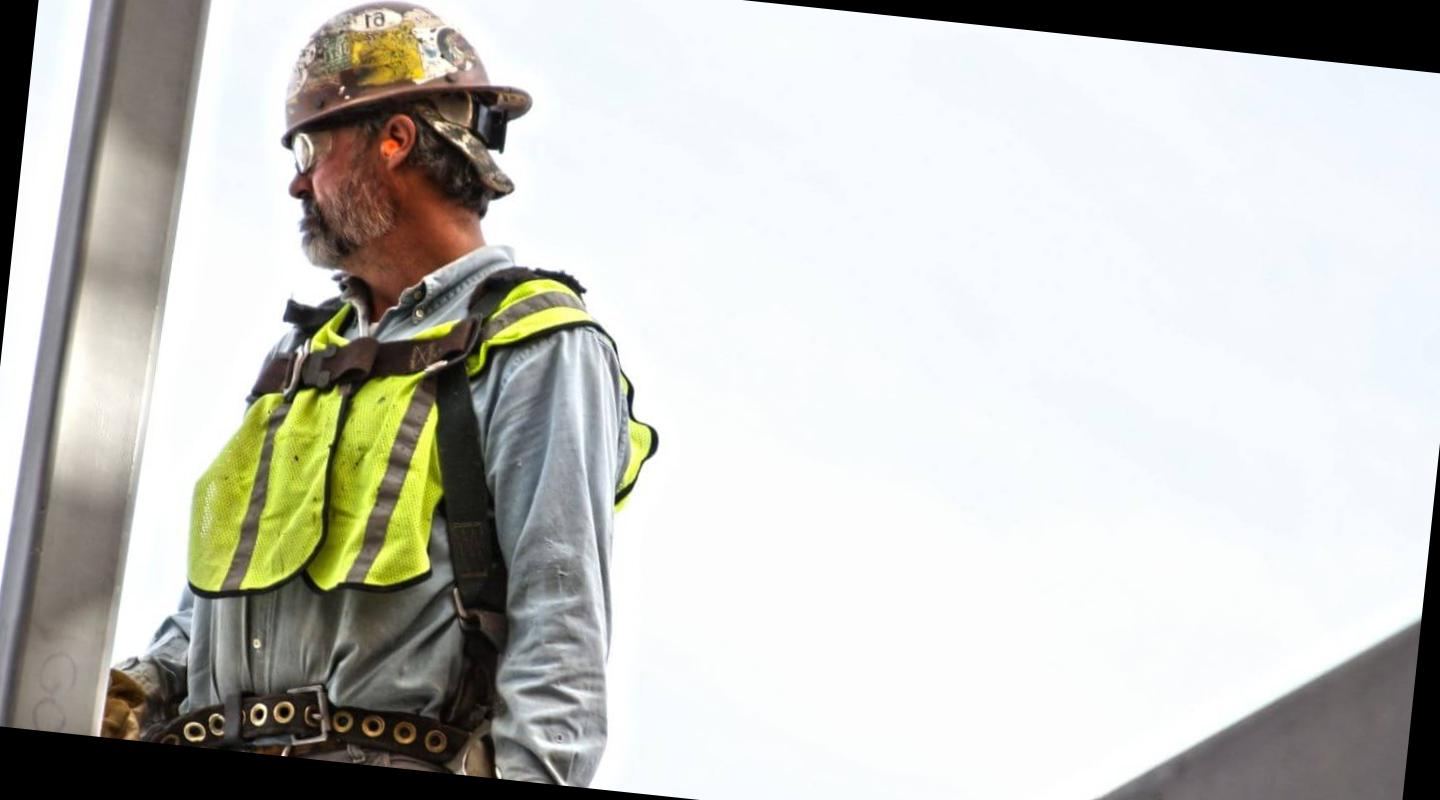helmet: (274, 0, 550, 174)
wear: (185, 245, 665, 748)
